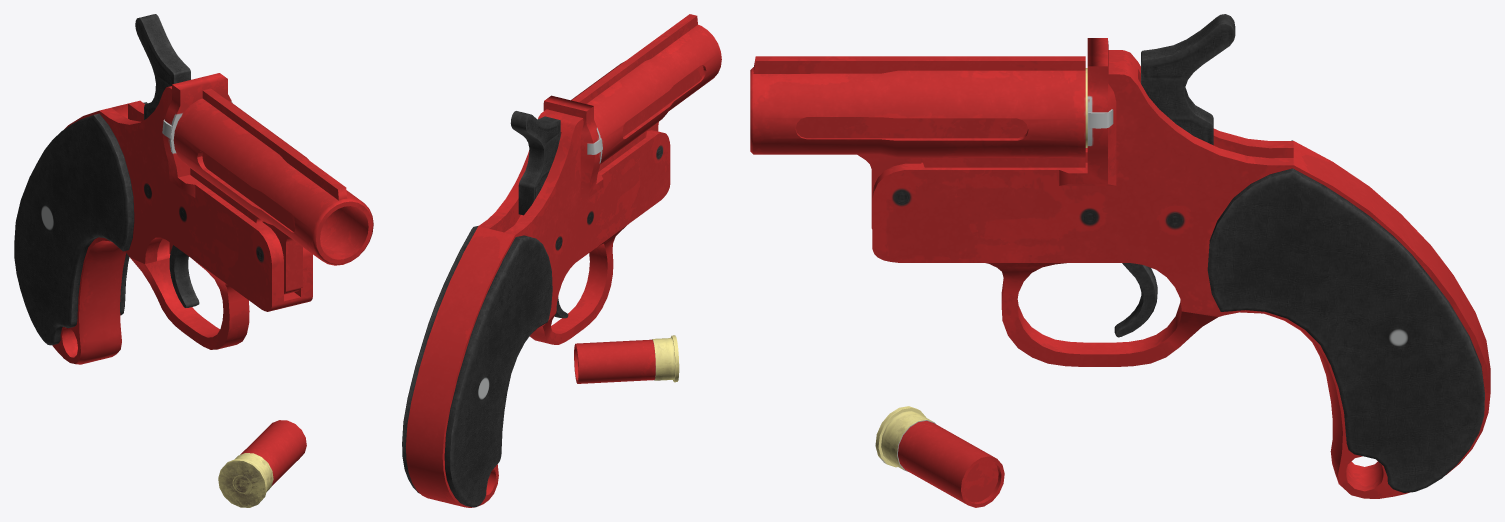
Rendered from flare_gun.glb.
3 renders of one model, left to right at view 1: azimuth 30°, elevation 25°; view 2: azimuth 150°, elevation 25°; view 3: azimuth 270°, elevation 25°, orthographic. The views are drawn at different scales.
Parts seen in each view (by area): view 1: Flaregun_Flaregun_0, shell_Flaregun_0; view 2: Flaregun_Flaregun_0, shell_Flaregun_0; view 3: Flaregun_Flaregun_0, shell_Flaregun_0.
Boxes of the visible parts, bbox=[...] form: Flaregun_Flaregun_0: bbox=[14, 14, 373, 364]; shell_Flaregun_0: bbox=[218, 420, 306, 507]; Flaregun_Flaregun_0: bbox=[402, 14, 721, 507]; shell_Flaregun_0: bbox=[574, 335, 679, 383]; Flaregun_Flaregun_0: bbox=[750, 14, 1490, 498]; shell_Flaregun_0: bbox=[875, 406, 1004, 507].
Bounding box in the file's own units: 0.1054 × 0.3764 × 0.5384.
Materials: 1 (1 with a texture image).
